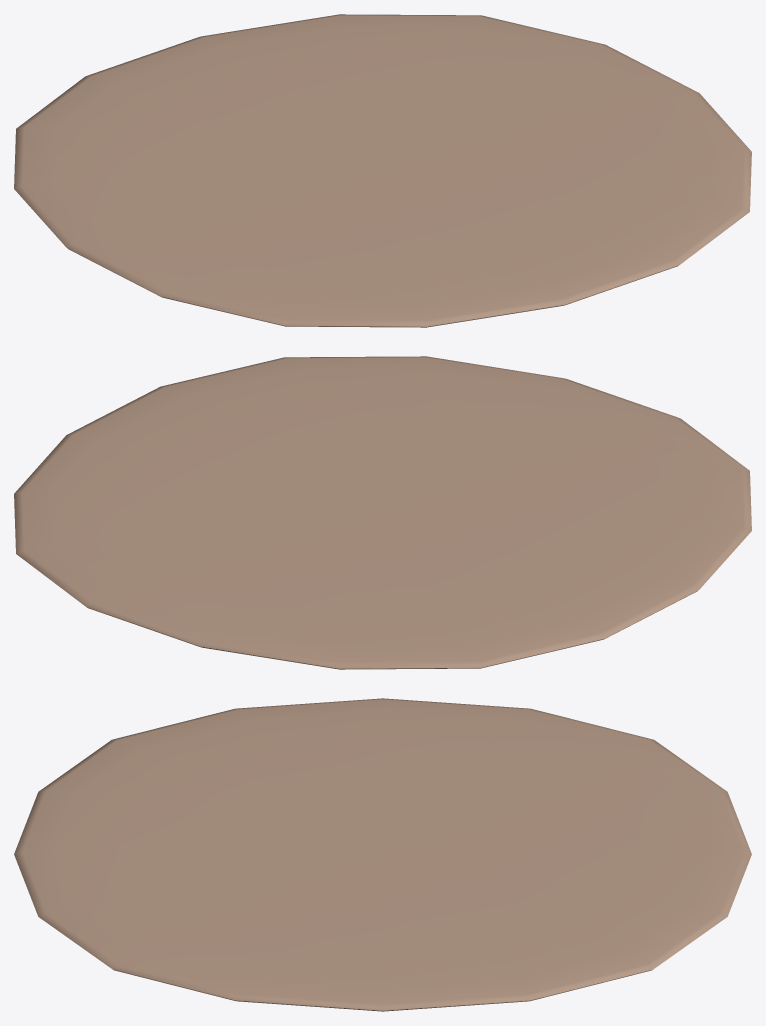
File: Carpet_3.glb
The picture shows the model from 3 angles, top to bottom: view 1: azimuth 30°, elevation 25°; view 2: azimuth 150°, elevation 25°; view 3: azimuth 270°, elevation 25°; orthographic projection.
Parts seen in each view (by area): view 1: Carpet_3; view 2: Carpet_3; view 3: Carpet_3.
Boxes of the visible parts, x1=… form: Carpet_3: x1=14, y1=14, x2=751, y2=327; Carpet_3: x1=14, y1=356, x2=751, y2=669; Carpet_3: x1=14, y1=698, x2=751, y2=1011.
Bounding box in the file's own units: 2.44 × 0.0344 × 2.44.
Materials: 1 (1 with a texture image).
